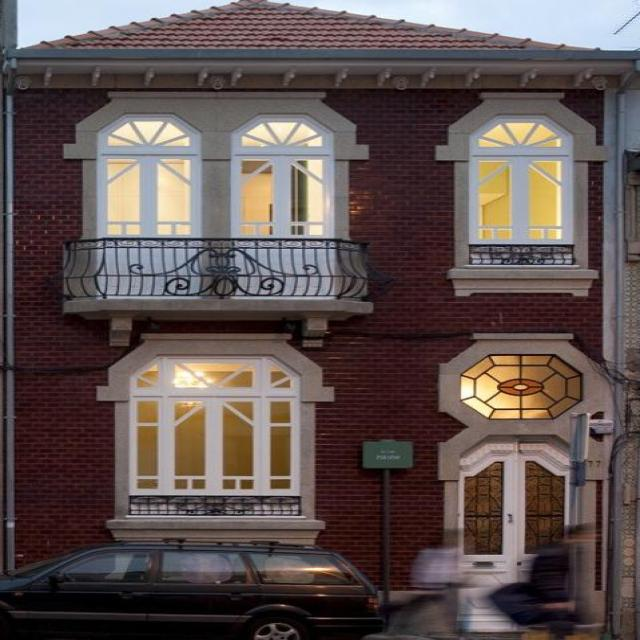Railing: (65, 242, 368, 302), (130, 497, 304, 516), (472, 248, 574, 266)
door: (459, 438, 572, 586)
wall: (3, 0, 639, 604)
windows: (134, 359, 300, 498), (230, 117, 336, 243), (95, 115, 201, 241), (470, 119, 570, 246), (461, 353, 581, 419)
